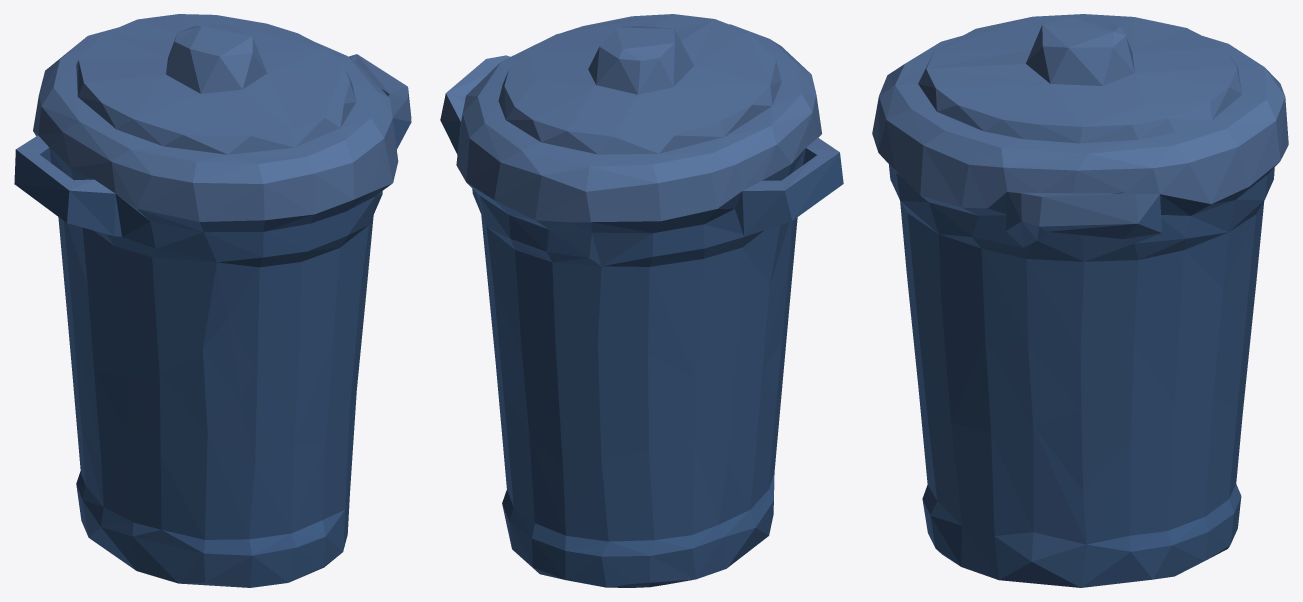
Rendered from bin.glb.
3 renders of one model, left to right at view 1: azimuth 30°, elevation 25°; view 2: azimuth 150°, elevation 25°; view 3: azimuth 270°, elevation 25°, orthographic. The views are drawn at different scales.
Visible parts, largest first — view 1: bin; view 2: bin; view 3: bin.
Part boxes in pixels (box(x1,y1,x2,y2)): bin: box(14, 14, 411, 587); bin: box(440, 14, 843, 587); bin: box(872, 14, 1288, 587).
Bounding box in the file's own units: 0.45 × 0.6 × 0.45.
